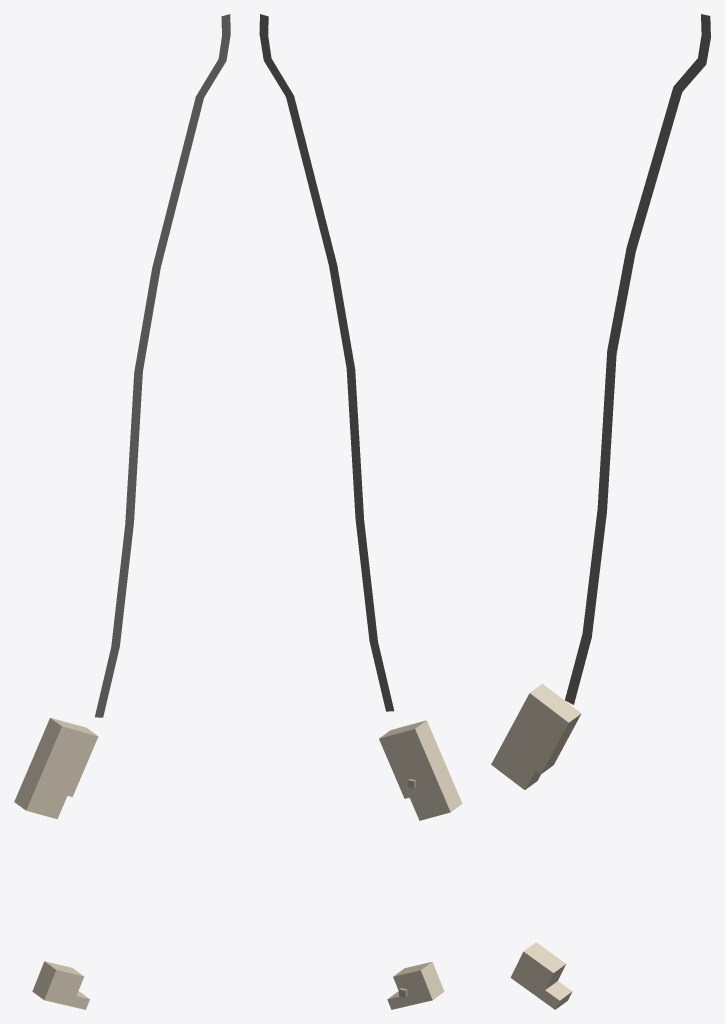
The model's file is historic-palestine-11_24_3527_3180.glb.
3 views of the same model, side by side, from view 1: azimuth 30°, elevation 25°; view 2: azimuth 150°, elevation 25°; view 3: azimuth 330°, elevation 25° (orthographic). The views are drawn at different scales.
Visible parts, largest first — view 1: Road, Building_, Building_.001; view 2: Road, Building_, Building_.001; view 3: Road, Building_, Building_.001.
Part boxes in pixels (left/top/right/bottom): Road: left=95, top=14, right=230, bottom=717; Building_: left=14, top=718, right=98, bottom=819; Building_.001: left=32, top=961, right=89, bottom=1009; Road: left=259, top=14, right=394, bottom=711; Building_: left=379, top=720, right=462, bottom=820; Building_.001: left=387, top=961, right=444, bottom=1009; Road: left=565, top=14, right=710, bottom=704; Building_: left=491, top=683, right=581, bottom=789; Building_.001: left=510, top=942, right=572, bottom=1009.
Size of the model in its own units: 74.57 by 334 by 8.7.
